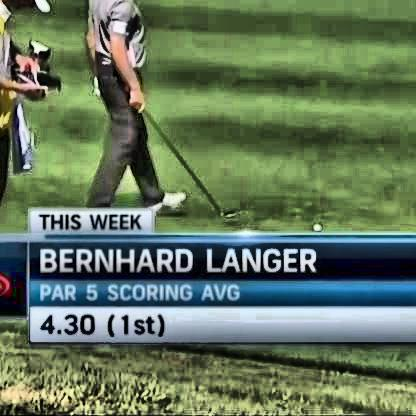golfball: (309, 219, 319, 229)
